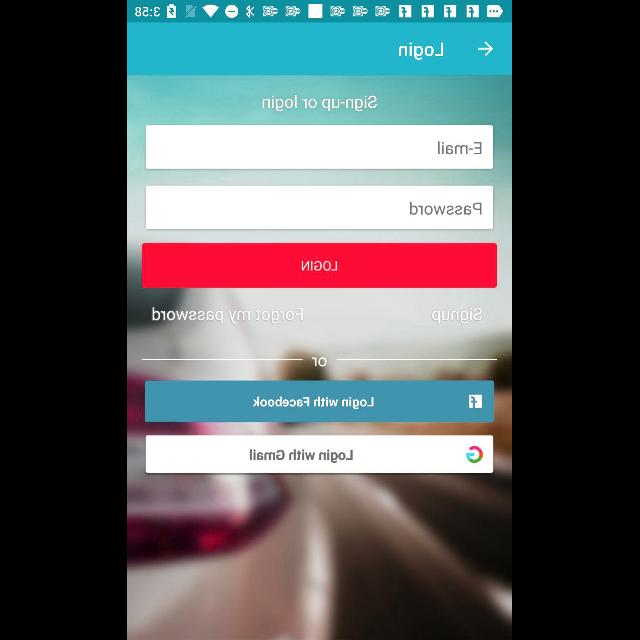backgroundimage: (128, 76, 512, 640)
icon: (478, 41, 494, 57)
input: (146, 186, 494, 230), (146, 125, 494, 169)
text: (152, 308, 304, 324), (264, 96, 378, 112), (411, 202, 483, 215), (400, 41, 444, 60), (432, 308, 483, 324), (438, 142, 482, 154), (312, 357, 328, 367)
textbutton: (142, 244, 498, 288), (146, 381, 494, 423), (146, 435, 494, 473)
toolbar: (128, 23, 512, 75)
uppertaskbar: (128, 1, 512, 23)
